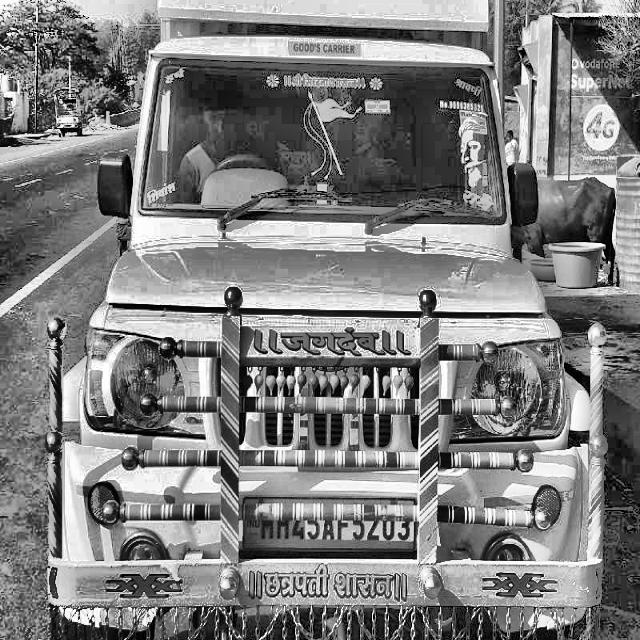light_vehicle: (54, 0, 596, 640)
